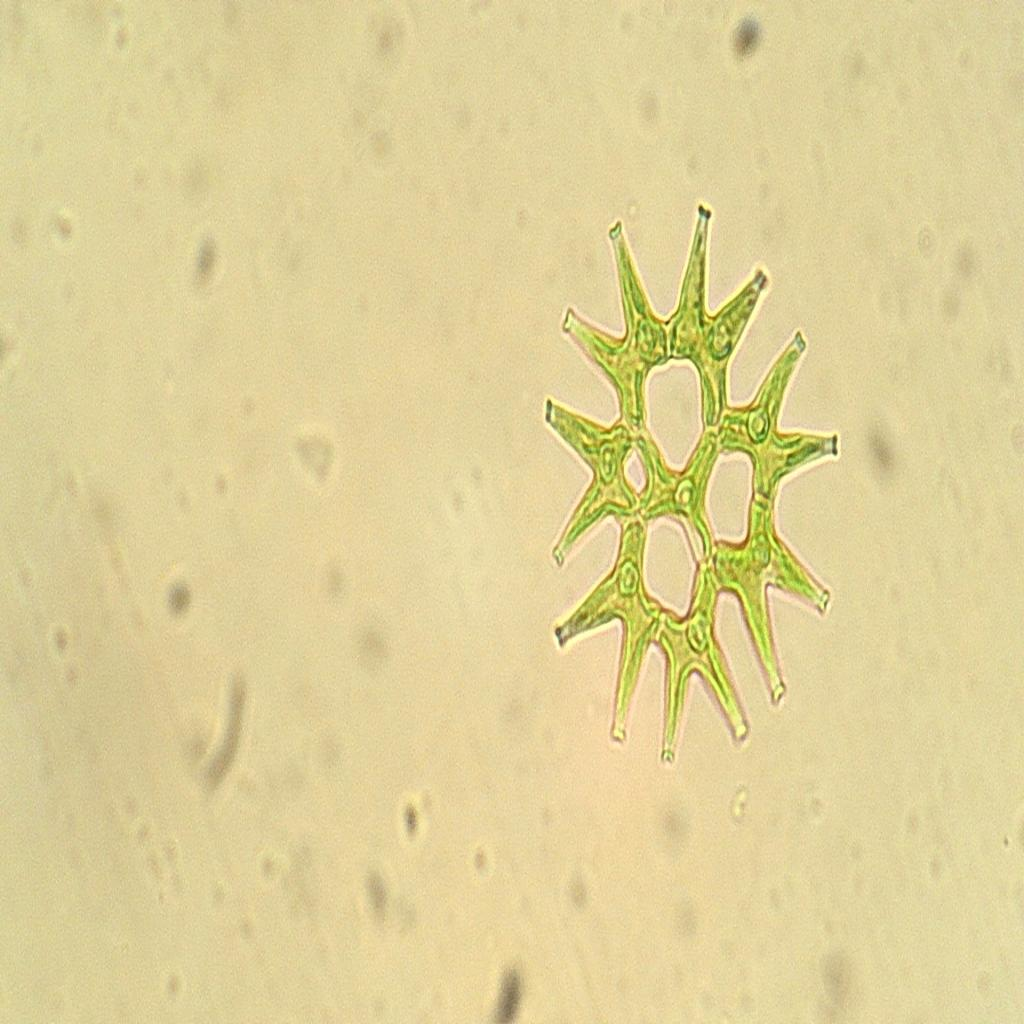Pediastrum_75T: (510, 193, 866, 777)
